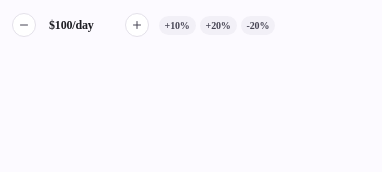
Test: CampaignDailyBudgetControl › reverts budget on guardrail rejection
Click the button "+20%" at (218, 25), box [200,16,237,34]
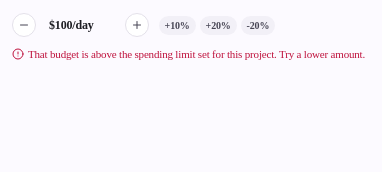
Check: the text "$100/day" is shown, box [49,17,94,33]
Check: the message shows "That budget is above the spending limit set for this project. Try a lower amount.", box [28,48,365,60]
